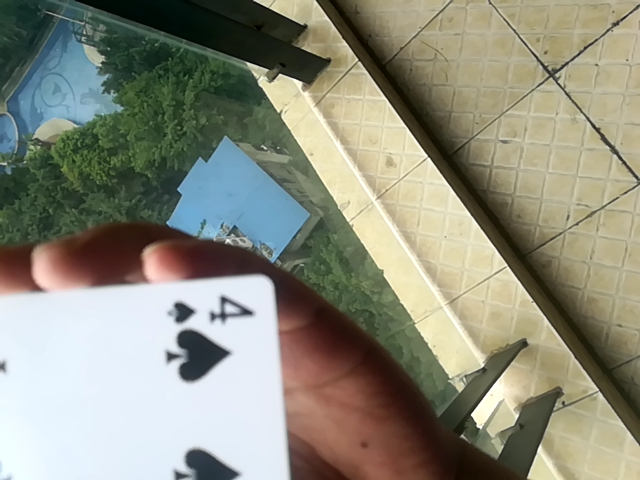ht 4: (0, 267, 298, 480)
